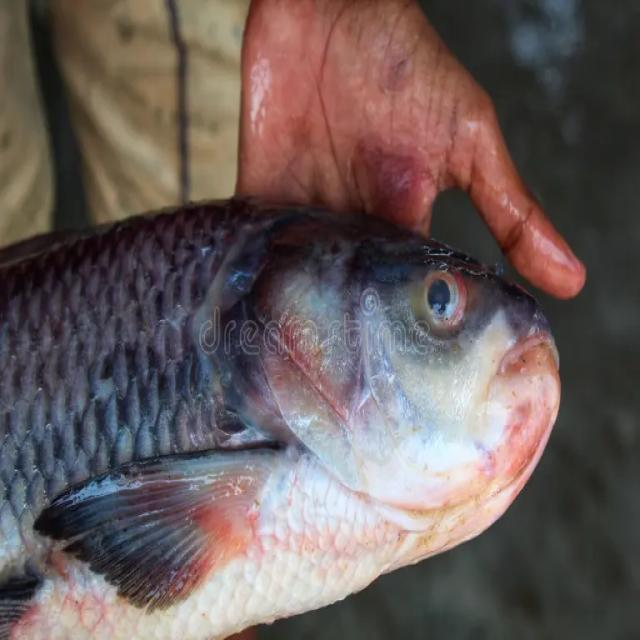Catla: (0, 198, 561, 639)
